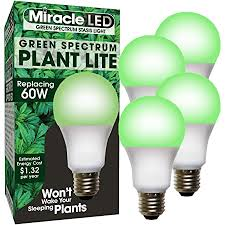bulb: (114, 30, 194, 128), (119, 94, 194, 193), (49, 67, 116, 174), (155, 7, 225, 103), (154, 71, 219, 165)
